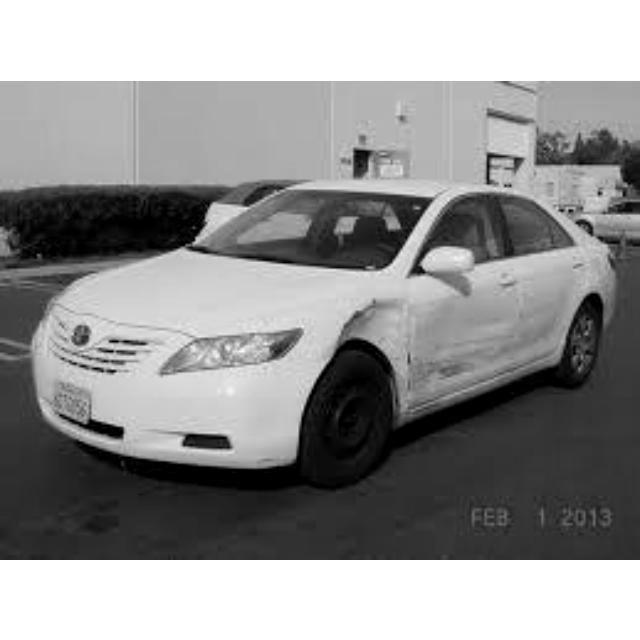fender-dent: (326, 286, 417, 365)
